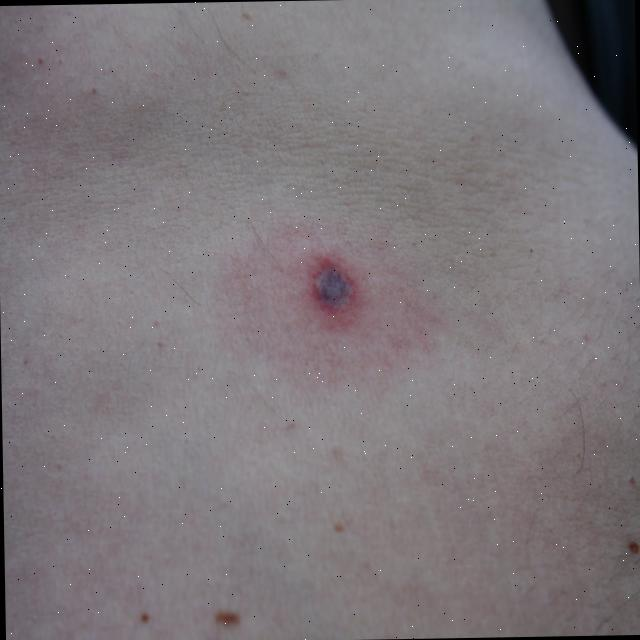kene: (279, 237, 380, 346)
